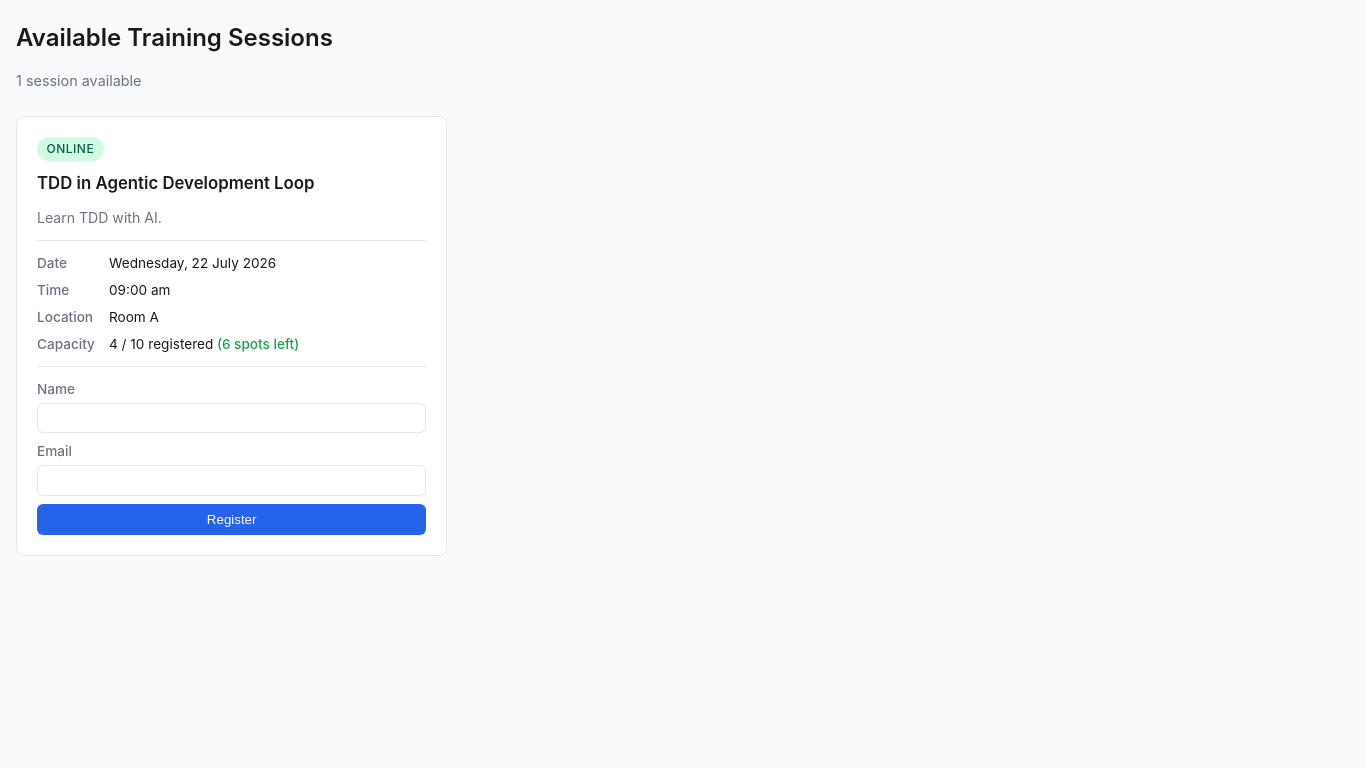
it: TrainingSessionsPage notification banner › removes the banner when Dismiss is clicked
The image size is (1366, 768).
Type "Ada Lovelace" into the field labelled "Name" at (232, 418), box [37,402,426,433]
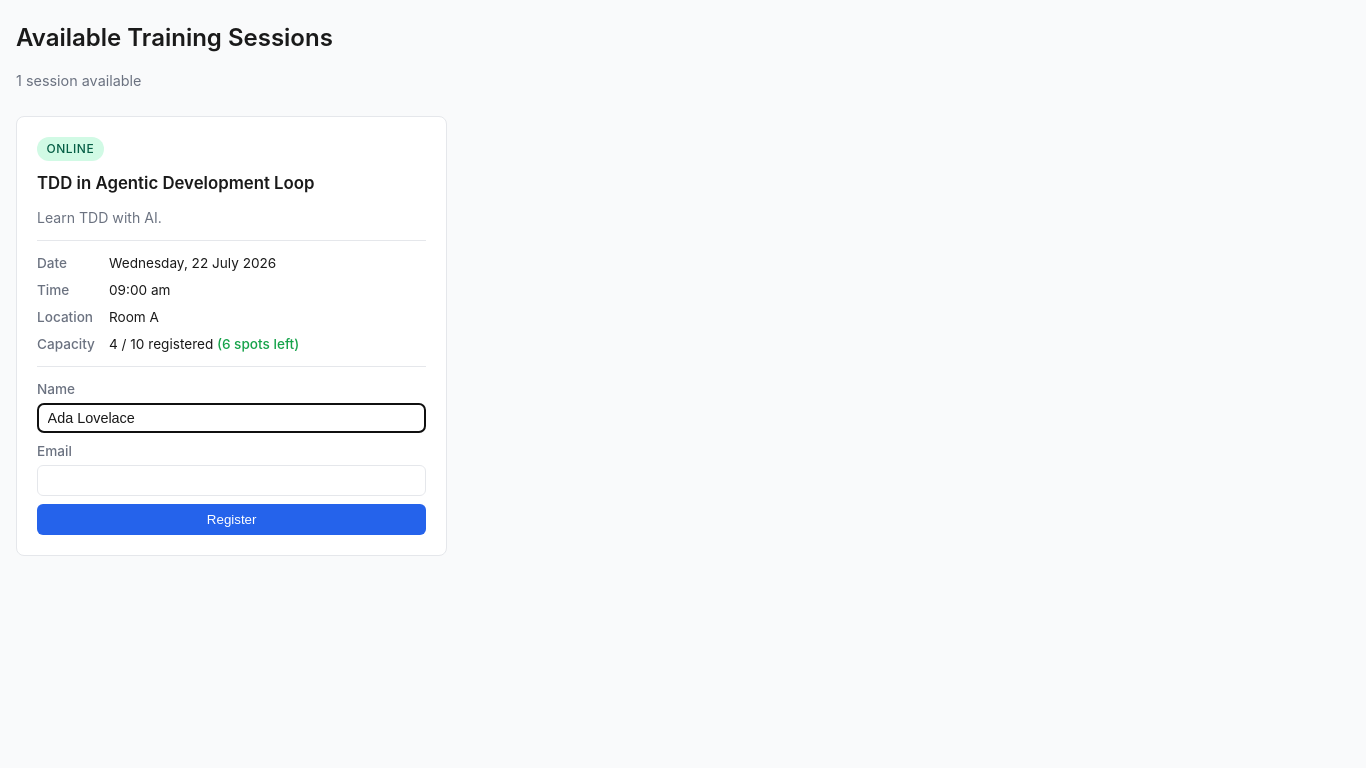
Type "ada@example.com" into the field labelled "Email" at (232, 480), box [37,465,426,496]
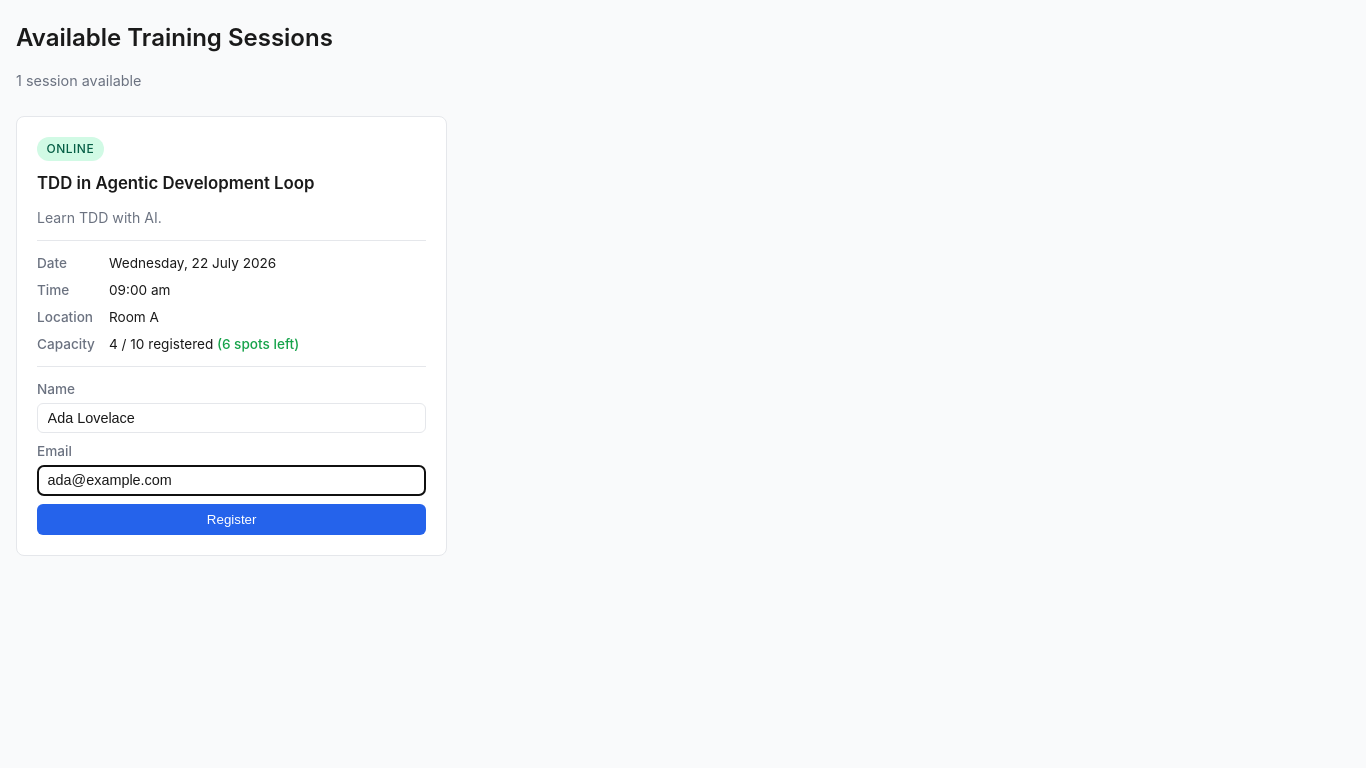
Click the button "Register" at (232, 519), box [37,504,426,535]
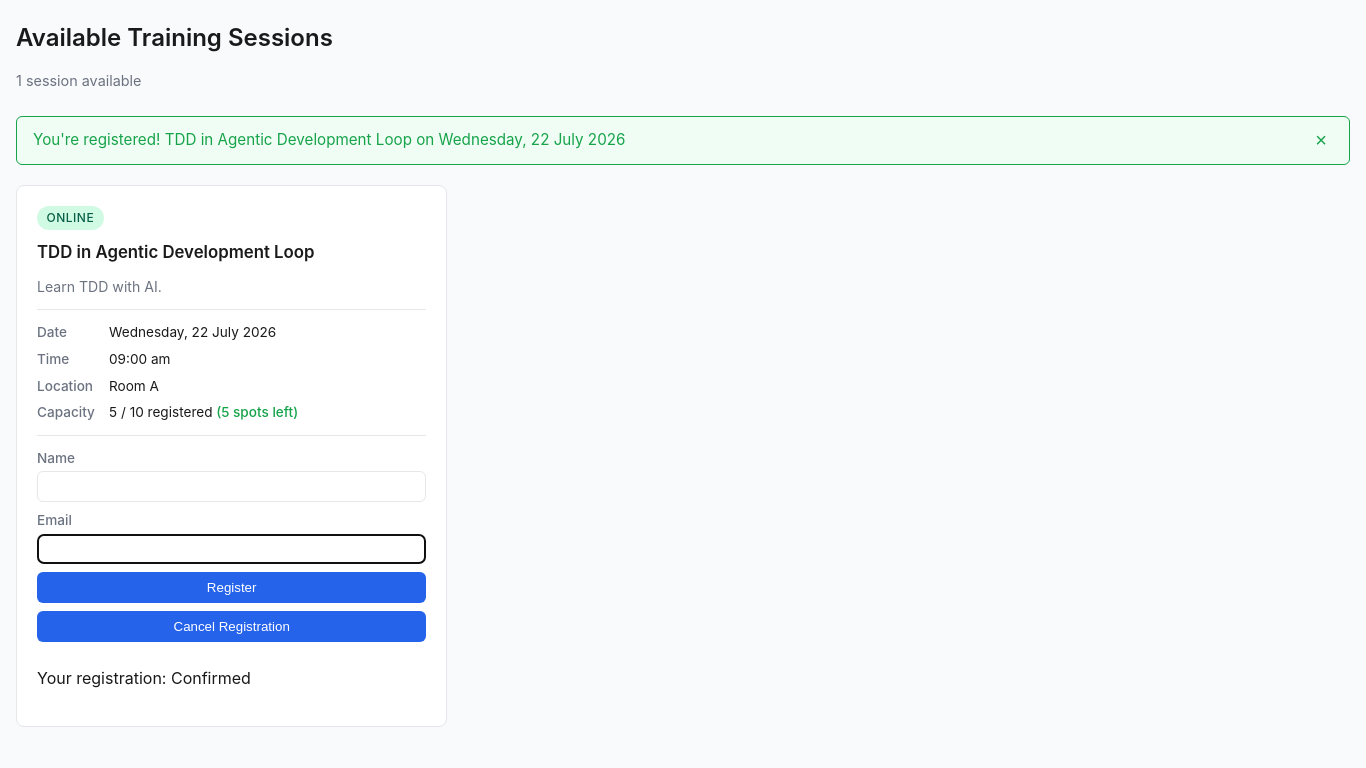
Click the button named "dismiss" at (1321, 140), box [1309,129,1333,151]
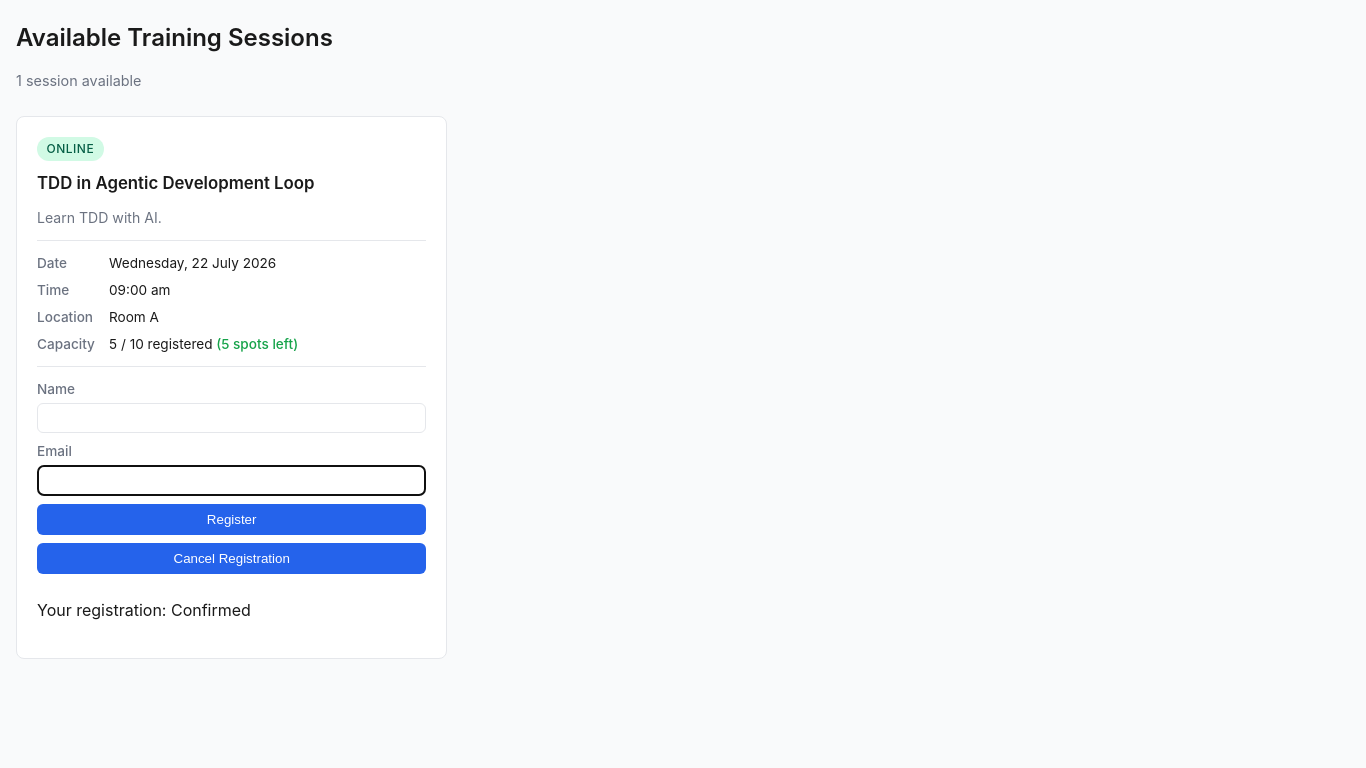
Now the message "You're registered! TDD in Agentic Development Loop on Wednesday, 22 July 2026 ×" is gone
